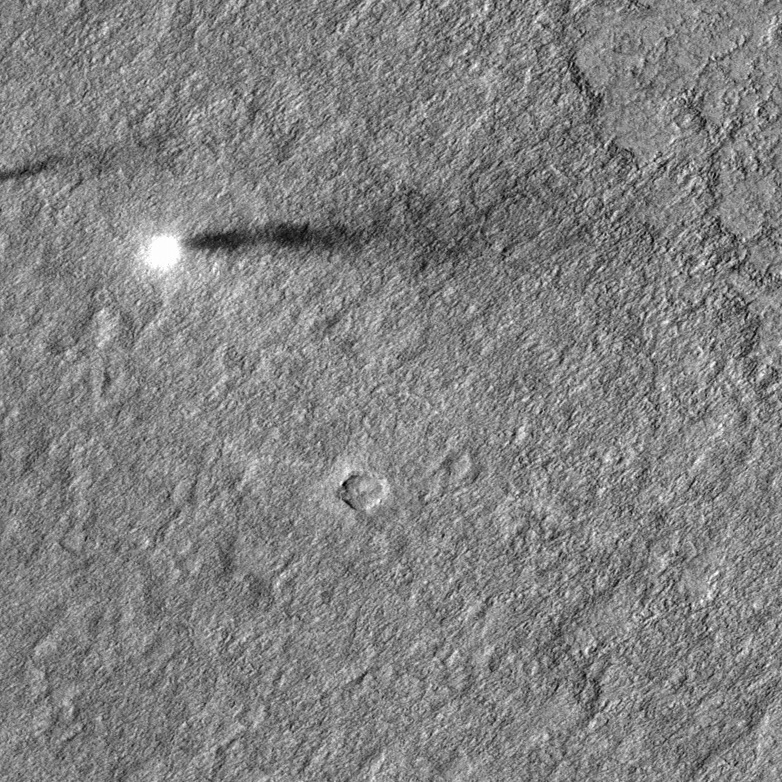dust_devil: (136, 215, 384, 277)
